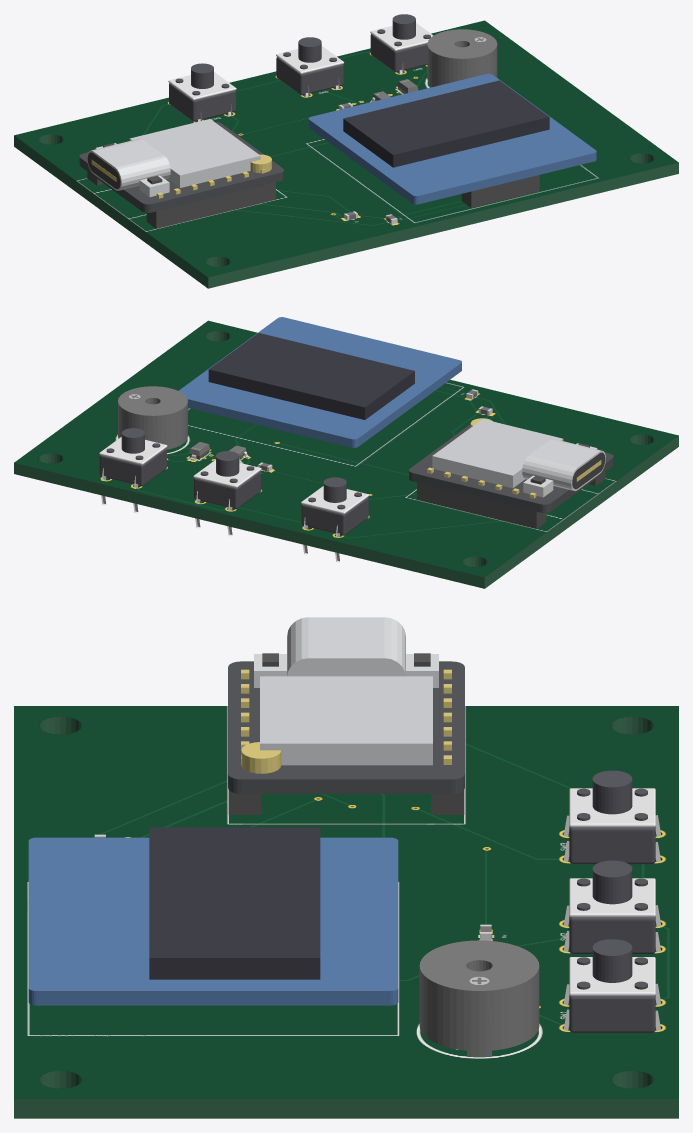
File: board.glb
The picture shows the model from 3 angles, top to bottom: view 1: azimuth 30°, elevation 25°; view 2: azimuth 150°, elevation 25°; view 3: azimuth 270°, elevation 25°; orthographic projection. The views are drawn at different scales.
Visible parts, largest first — view 1: Box0, DS1, U1, BZ1, SW2, SW3, SW1; view 2: Box0, DS1, U1, BZ1, SW2, SW1, SW3; view 3: Box0, DS1, U1, BZ1, SW1, SW3, SW2.
Boxes of the visible parts, x1,y1,x2,y2 form: Box0: (14,20,678,288); DS1: (308,73,596,207); U1: (79,119,283,228); BZ1: (427,29,497,86); SW2: (276,37,344,96); SW3: (168,63,236,121); SW1: (370,14,433,73); Box0: (14,320,678,588); DS1: (178,317,461,447); U1: (409,418,613,528); BZ1: (118,386,187,449); SW2: (193,451,261,536); SW1: (99,428,167,513); SW3: (301,477,369,562); Box0: (14,706,678,1118); DS1: (28,827,398,1005); U1: (228,617,464,814); BZ1: (419,940,539,1057); SW1: (563,939,661,1032); SW3: (563,770,660,864); SW2: (563,860,660,954).
Size of the model in its own units: 71.08 by 11.4 by 50.
Materials: 23 (2 with a texture image).
